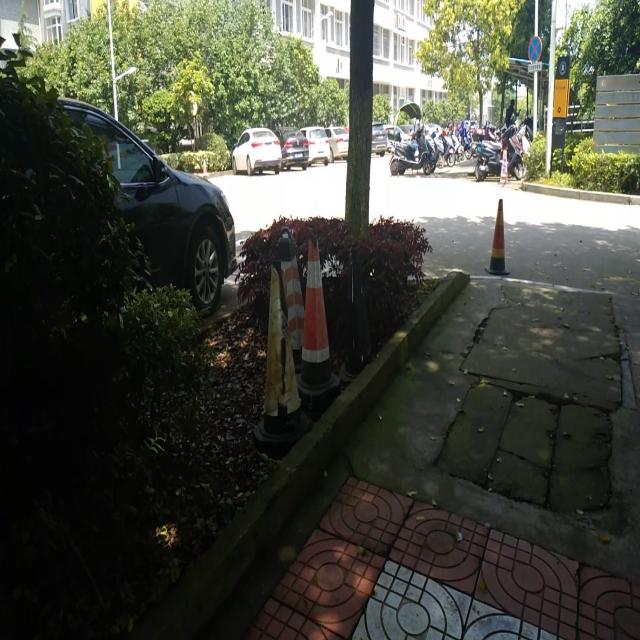car: (64, 94, 238, 315), (230, 126, 281, 174), (277, 125, 308, 170), (306, 125, 330, 167), (325, 126, 348, 162), (371, 121, 387, 156)
motorbike: (472, 120, 524, 182), (387, 120, 433, 175)
pole: (107, 27, 122, 169), (544, 14, 557, 174), (528, 25, 540, 137)
reflective_cone: (253, 264, 308, 444), (296, 237, 340, 398), (482, 197, 510, 274), (498, 146, 509, 184)
